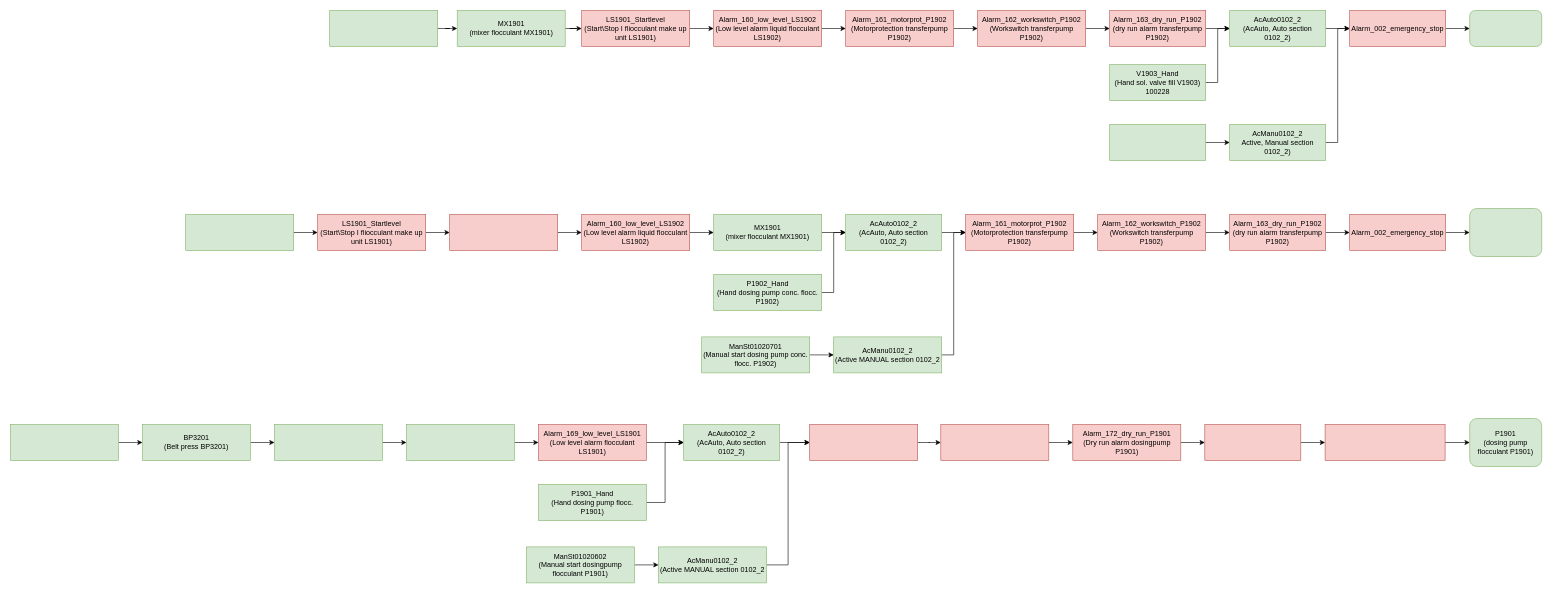
The diagram is 1552 pixels wide and 593 high, and some of its shapes have lost their labels. The centre of each missing label's shape, as x and y in pixels:
Alarm_002_emergency_stop (Emergency stop circuit activated): the point at 1252,442
Alarm_169_low_level_LS1901_new (Low level alarm flocculant LS1901 new): the point at 1384,442
Alarm_170_motorprot_P1901 (Motorprotection dosingpump P1901): the point at 863,442
Alarm_171_workswitch_P1901 (Workswitch dosingpump P1901): the point at 994,442
LS2001_start_stop_2: the point at 460,442
ManSt01020706 (helpbit: manual start sol. valve fill. water V1903): the point at 1157,142
P1901_Auto (Auto dosing pump flocculant P1901): the point at 64,442
P1902 (Dosing pump concentrated flocculant) 0170: the point at 1505,232
P1902_Auto (auto dosing pump conc. flocc. P1902): the point at 239,232
P2001 (Sludge pump belt press P2001): the point at 328,442
T141_done_on_time_P1902: the point at 503,232
V1903 (Открыть) 0173: the point at 1505,28
V1903_Auto (auto sol. valve fill. water V1903): the point at 383,28
